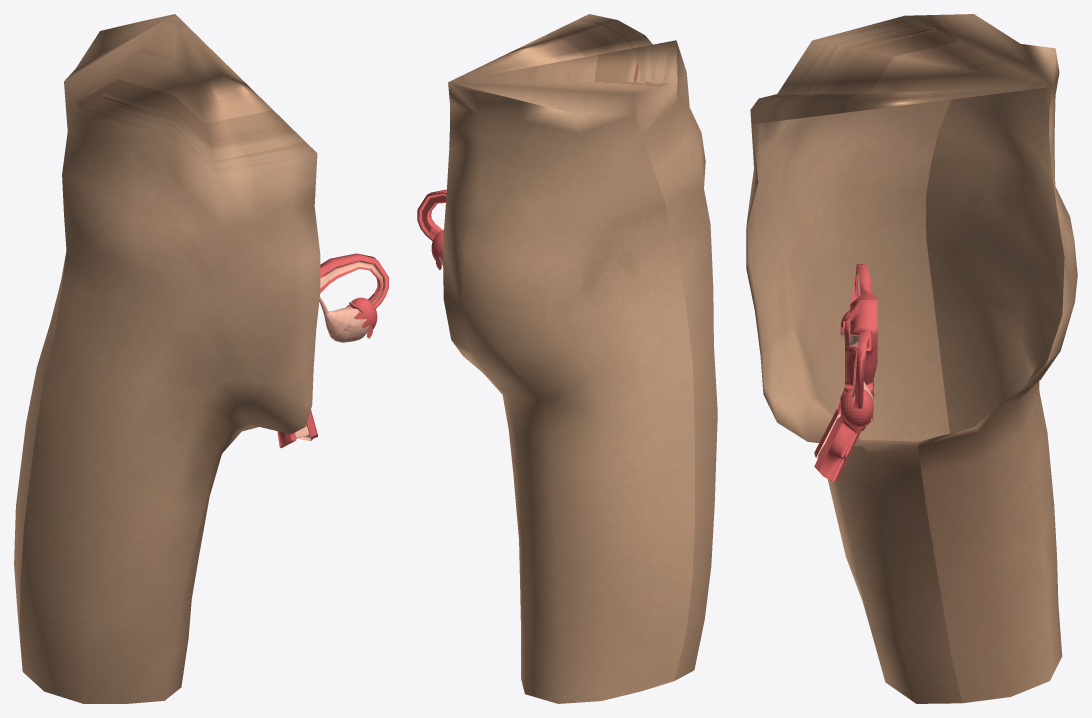
The model's file is MRS.V nganggo katok.fbx.
The picture shows the model from 3 angles, left to right: view 1: azimuth 30°, elevation 25°; view 2: azimuth 150°, elevation 25°; view 3: azimuth 270°, elevation 25°; orthographic projection. The views are drawn at different scales.
Visible parts, largest first — view 1: gendud, Cube; view 2: gendud, Cube; view 3: gendud, Cube.
Boxes of the visible parts, x1,y1,x2,y2 form: gendud: [14, 14, 320, 703]; Cube: [277, 253, 388, 448]; gendud: [442, 14, 717, 703]; Cube: [417, 189, 446, 269]; gendud: [746, 14, 1077, 703]; Cube: [814, 263, 877, 481].
Size of the model in its own units: 1047 by 1907 by 885.
3 materials, 1 textured.
